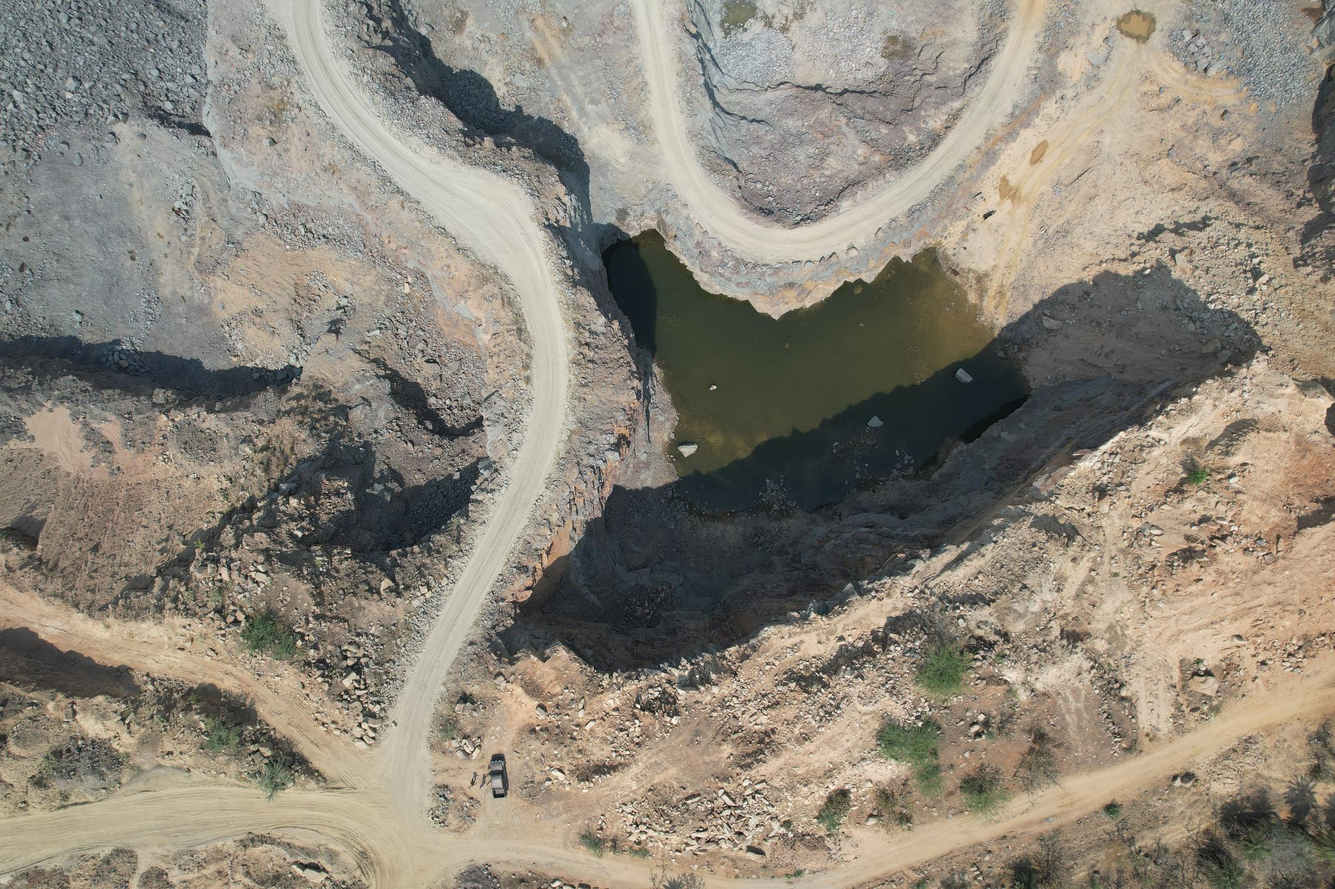benches: (0, 0, 572, 889), (0, 654, 656, 887), (747, 649, 1335, 889), (629, 0, 1045, 264), (762, 697, 898, 798), (779, 600, 903, 666), (1122, 603, 1206, 693)
truck: (483, 750, 514, 801)
